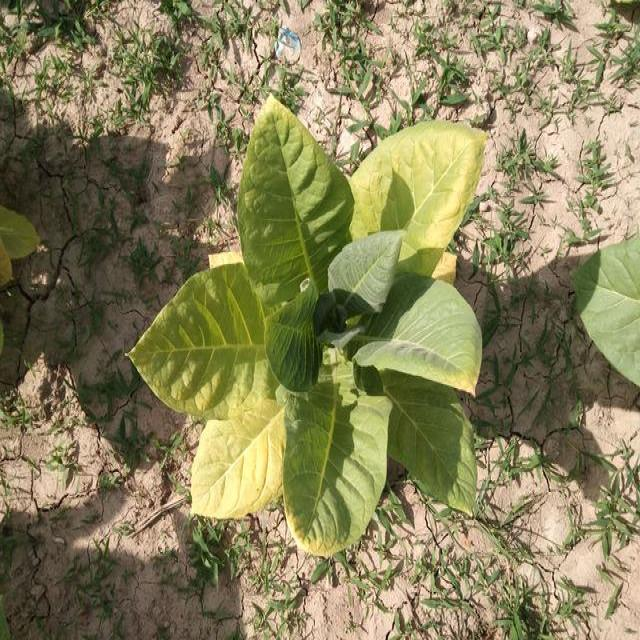crop: (126, 95, 498, 557)
